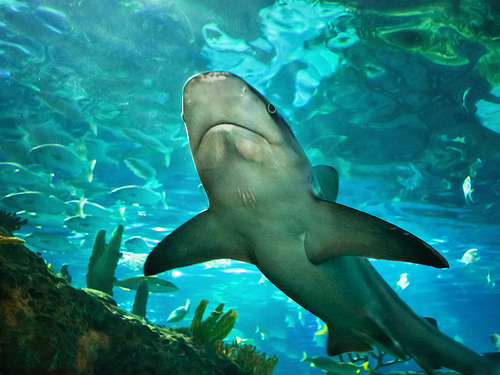shark: (128, 43, 497, 369)
